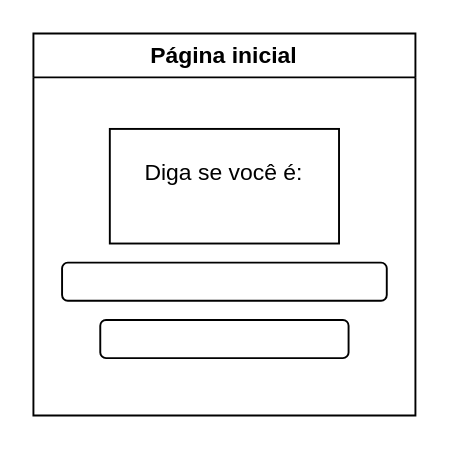
The diagram is 449 pixels wide and 449 high, and some of its shapes have lost their labels. The centre of each missing label's shape, as x and y in pixels:
Paciente | Acompanhante: point 223,281
Profissional de Saúde: point 223,338
